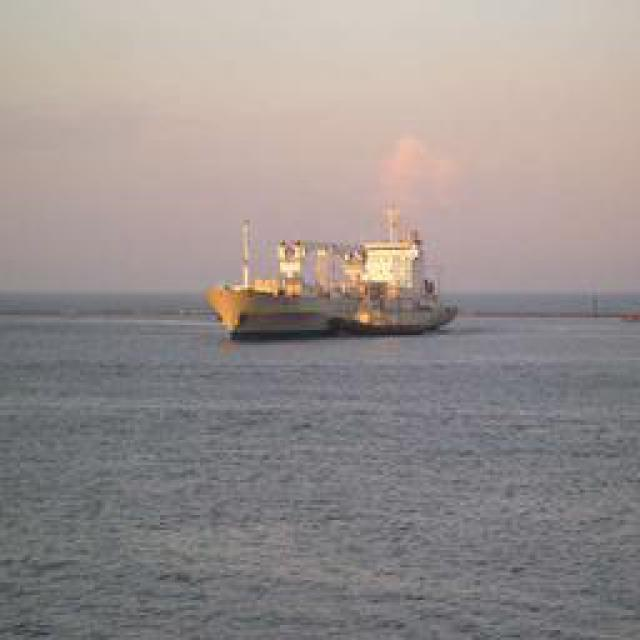Ship: (207, 197, 455, 337)
